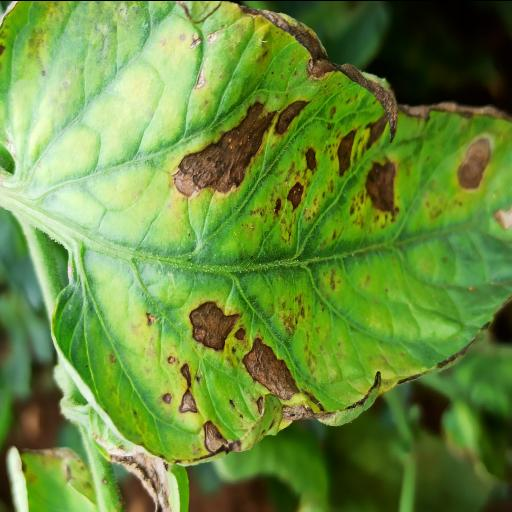disease_tomato: (0, 0, 512, 468)
